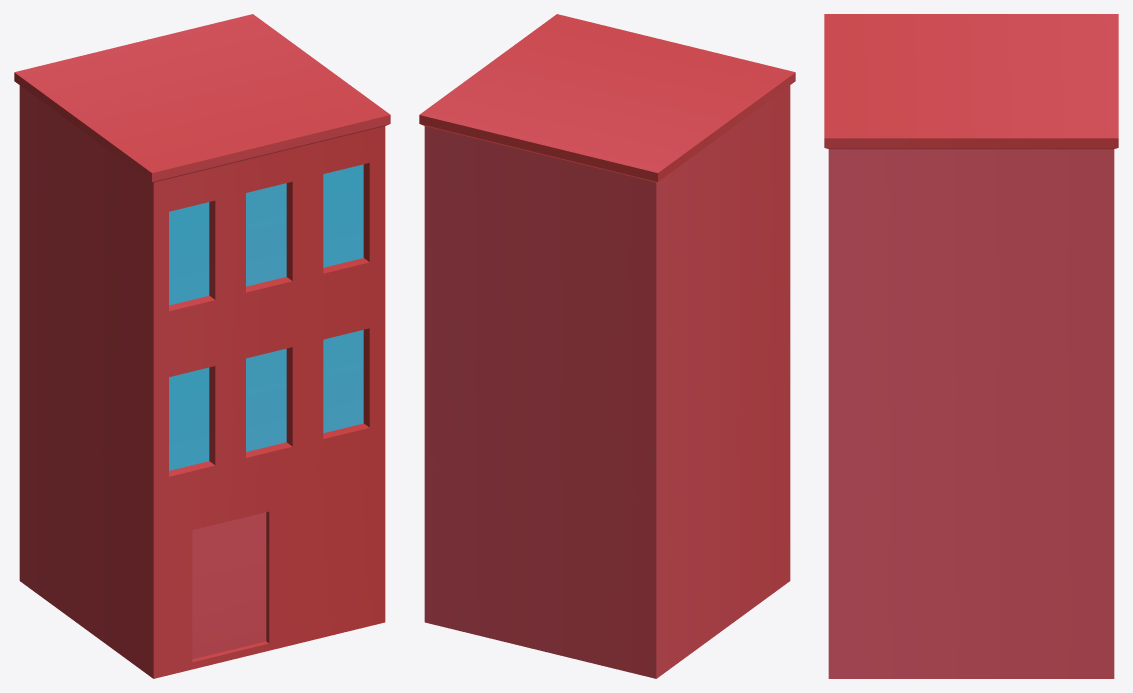
The model's file is SM_casa1.fbx.
The picture shows the model from 3 angles, left to right: view 1: azimuth 30°, elevation 25°; view 2: azimuth 150°, elevation 25°; view 3: azimuth 270°, elevation 25°; orthographic projection. The views are drawn at different scales.
Parts seen in each view (by area): view 1: Cube; view 2: Cube; view 3: Cube.
Boxes of the visible parts, x1,y1,x2,y2 form: Cube: (14,14,390,678); Cube: (419,14,795,678); Cube: (824,14,1118,678).
Bounding box in the file's own units: 641 × 1303 × 641.
